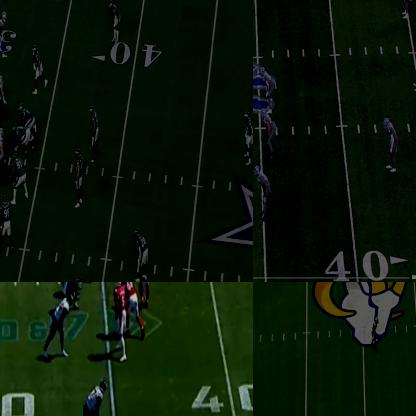CENTER: (0, 129, 8, 171)
DB: (257, 165, 270, 222), (137, 229, 151, 281), (386, 121, 400, 173), (109, 0, 120, 45), (244, 111, 252, 161), (399, 0, 414, 13)
LB: (262, 108, 278, 165), (260, 67, 278, 106), (32, 44, 44, 92), (91, 102, 100, 159), (75, 157, 85, 205), (137, 282, 154, 302)
SKILL: (120, 282, 145, 342), (113, 282, 130, 361), (47, 298, 70, 354), (82, 380, 107, 415), (0, 9, 11, 50), (0, 74, 8, 107)
